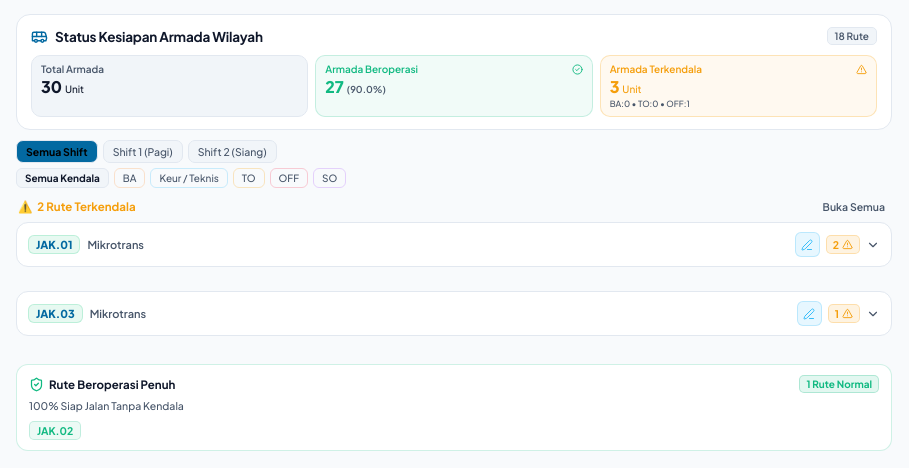
MonitoringFleetStatusTab Component › filters non-SGO units by shift
Click the button "Shift 2 (Siang)" at (232, 152), box top-left (188, 140), bottom-right (277, 163)
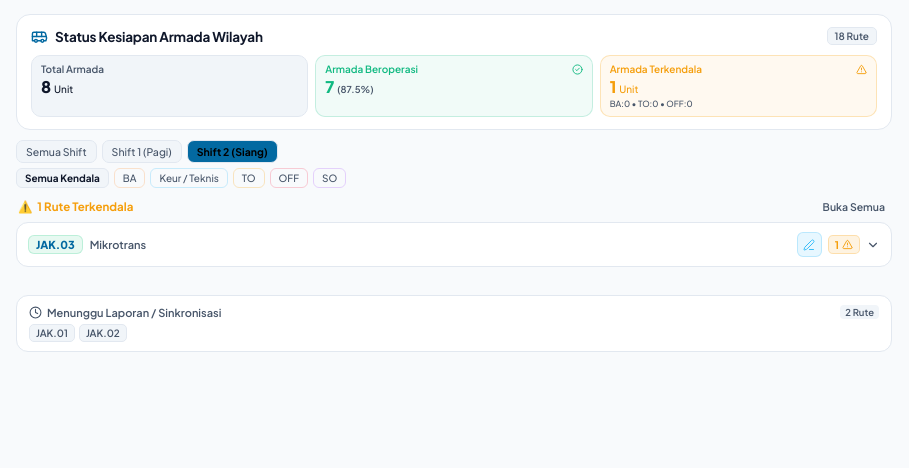
Click the button "Buka Semua" at (854, 207), box top-left (818, 198), bottom-right (890, 215)
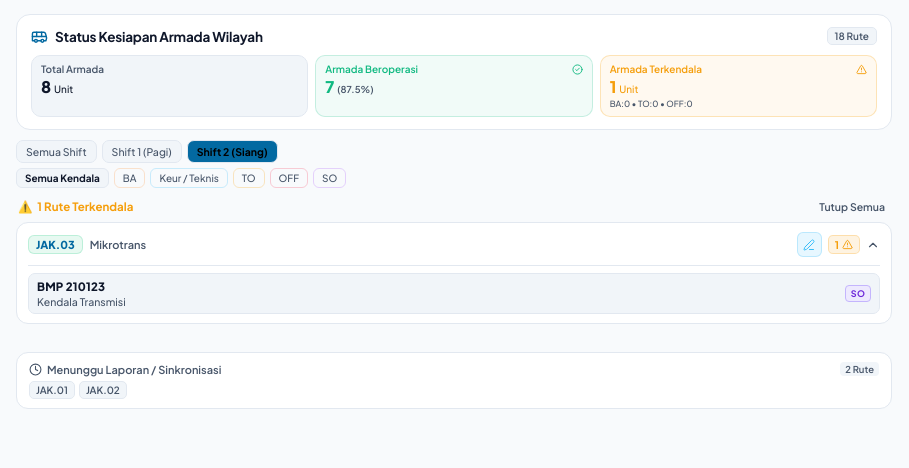
Expected: the text "JAK.03" is shown, top-left (28, 235), bottom-right (83, 254)
Now the text "BMP 210123" is shown, box top-left (37, 279), bottom-right (105, 294)
